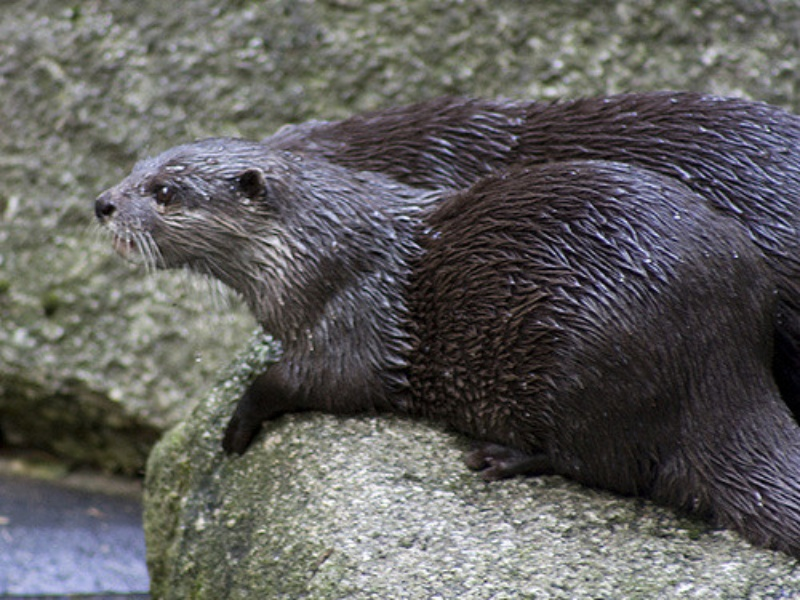minkish: (94, 141, 800, 534)
